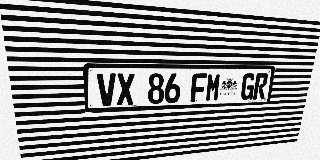6: (164, 73, 181, 103)
8: (148, 73, 165, 104)
F: (190, 73, 207, 102)
G: (240, 73, 256, 100)
M: (205, 73, 222, 102)
R: (253, 73, 269, 100)
V: (97, 73, 116, 106)
X: (116, 73, 134, 105)
